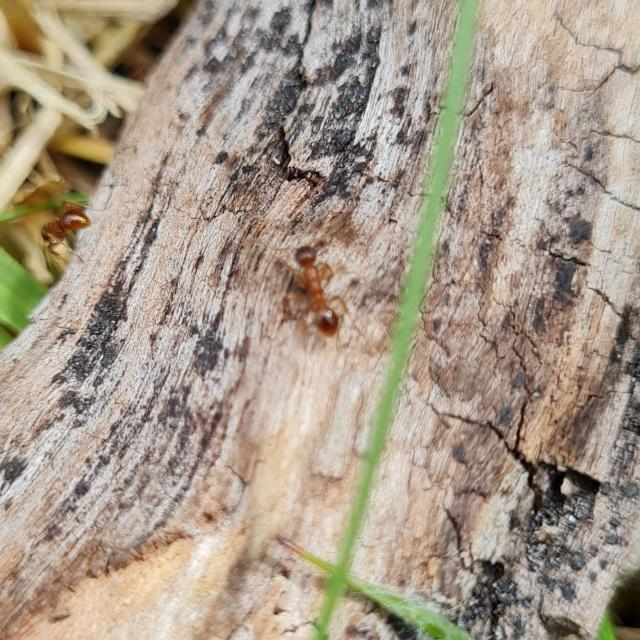Myrmica: (270, 231, 370, 367), (25, 190, 133, 264)
